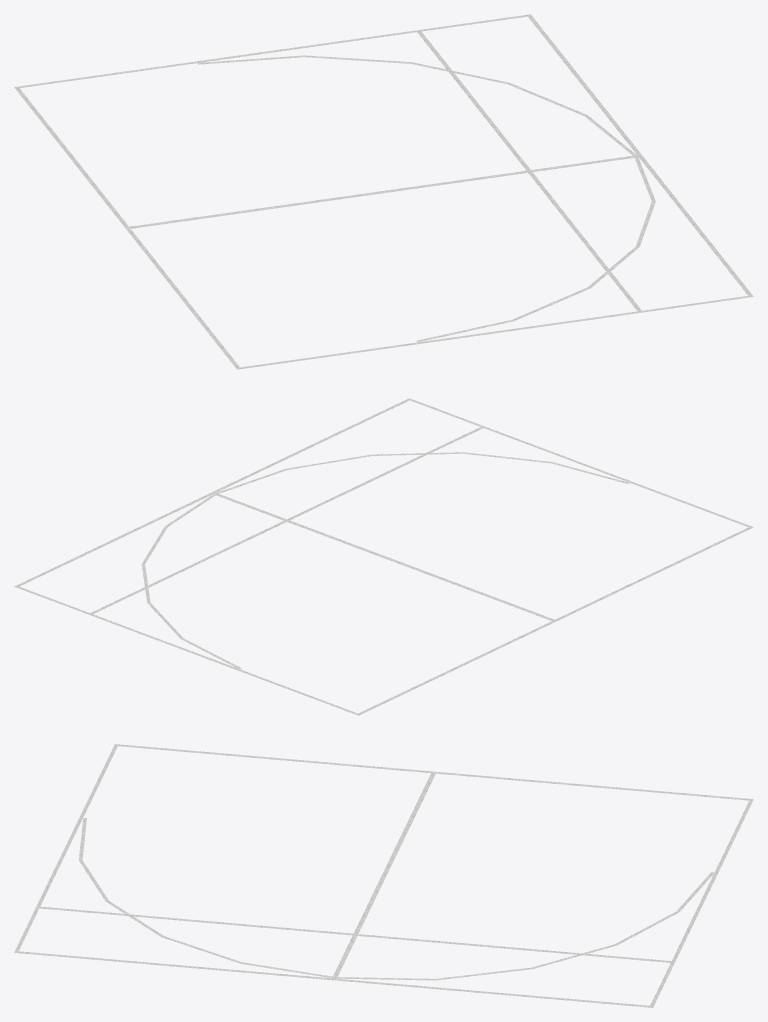
The model's file is kd_stage_136599_1_3.glb.
3 views of the same model, one above another, from view 1: azimuth 30°, elevation 25°; view 2: azimuth 150°, elevation 25°; view 3: azimuth 270°, elevation 25° (orthographic). The views are drawn at different scales.
Visible parts, largest first — view 1: kd_stage_136599_1_3; view 2: kd_stage_136599_1_3; view 3: kd_stage_136599_1_3.
Boxes of the visible parts, x1,y1,x2,y2 form: kd_stage_136599_1_3: (14, 14, 753, 369); kd_stage_136599_1_3: (14, 398, 753, 715); kd_stage_136599_1_3: (14, 744, 753, 1007).
Bounding box in the file's own units: 38.37 × 0 × 45.47.
Materials: 1 (1 with a texture image).
